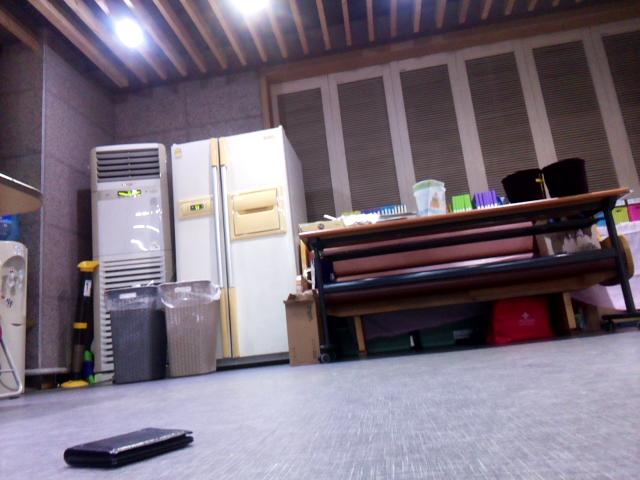wallet: (63, 417, 197, 475)
